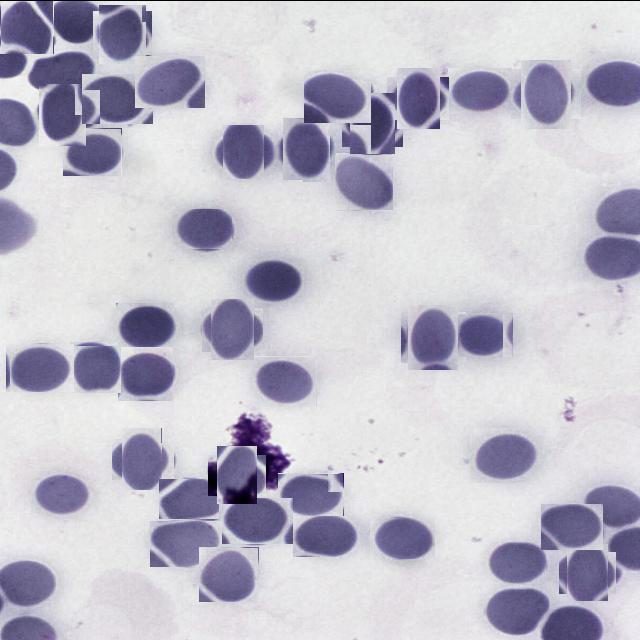red blood cell: (470, 427, 542, 482), (135, 54, 206, 107), (82, 72, 154, 123), (516, 63, 576, 123), (304, 69, 371, 122), (219, 497, 293, 543), (6, 342, 75, 391), (404, 308, 462, 366), (150, 520, 222, 566), (199, 546, 259, 601), (254, 355, 317, 406), (336, 153, 392, 210), (278, 120, 334, 176), (27, 50, 99, 93), (484, 587, 548, 635), (293, 512, 361, 556), (118, 346, 173, 400), (36, 87, 90, 142), (541, 502, 604, 549), (448, 67, 512, 113), (346, 96, 400, 150), (31, 470, 94, 516), (278, 472, 344, 515), (63, 127, 122, 175), (1, 0, 54, 53), (96, 8, 150, 60), (159, 478, 229, 518), (116, 302, 174, 350), (370, 516, 436, 558), (243, 257, 304, 302), (116, 432, 168, 484), (392, 72, 444, 124), (206, 303, 258, 355), (68, 342, 120, 393), (169, 208, 232, 248), (486, 541, 546, 583), (457, 312, 513, 356), (563, 547, 612, 597), (212, 450, 262, 499), (220, 127, 268, 175)
